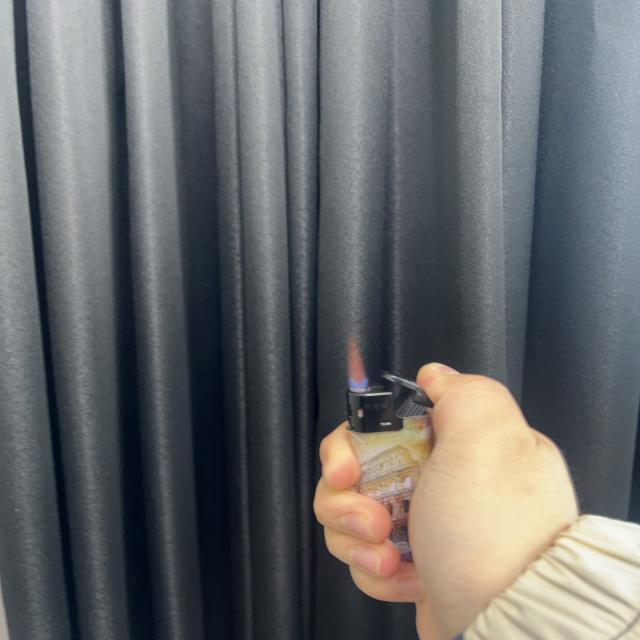fire: (342, 332, 372, 392)
